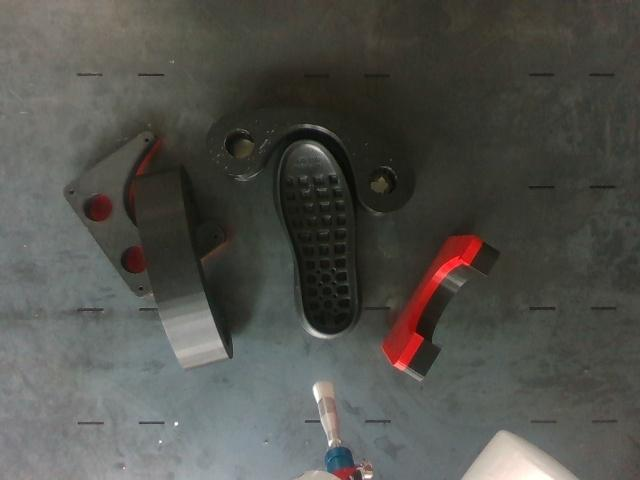shoes: (279, 139, 356, 335)
